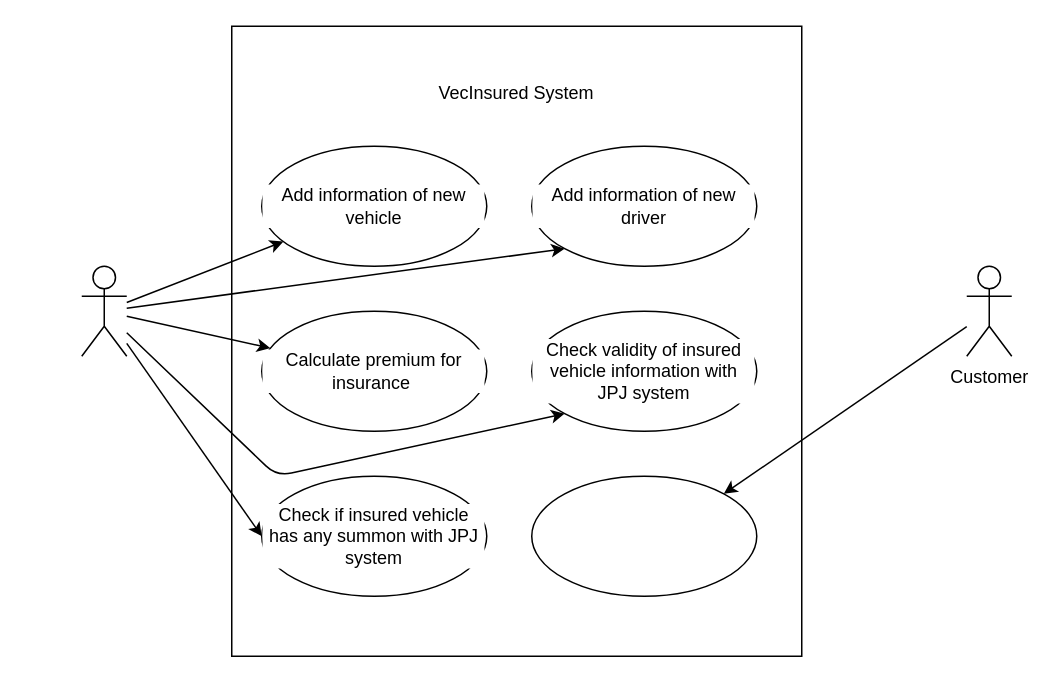
Some shapes in this 1055 by 683 pixel diagram are drawn without their labels. Each missing label, with the centre of its shape:
"Insurance company" belongs at (x=103, y=310).
"Pay insurance" belongs at (x=643, y=535).
